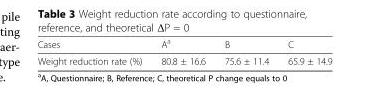table: (36, 36, 331, 66)
table column: (36, 36, 150, 66), (150, 36, 214, 66), (214, 36, 277, 66), (277, 36, 331, 66)
table column header: (36, 36, 331, 52)
table row: (36, 36, 331, 52), (36, 52, 331, 66)
